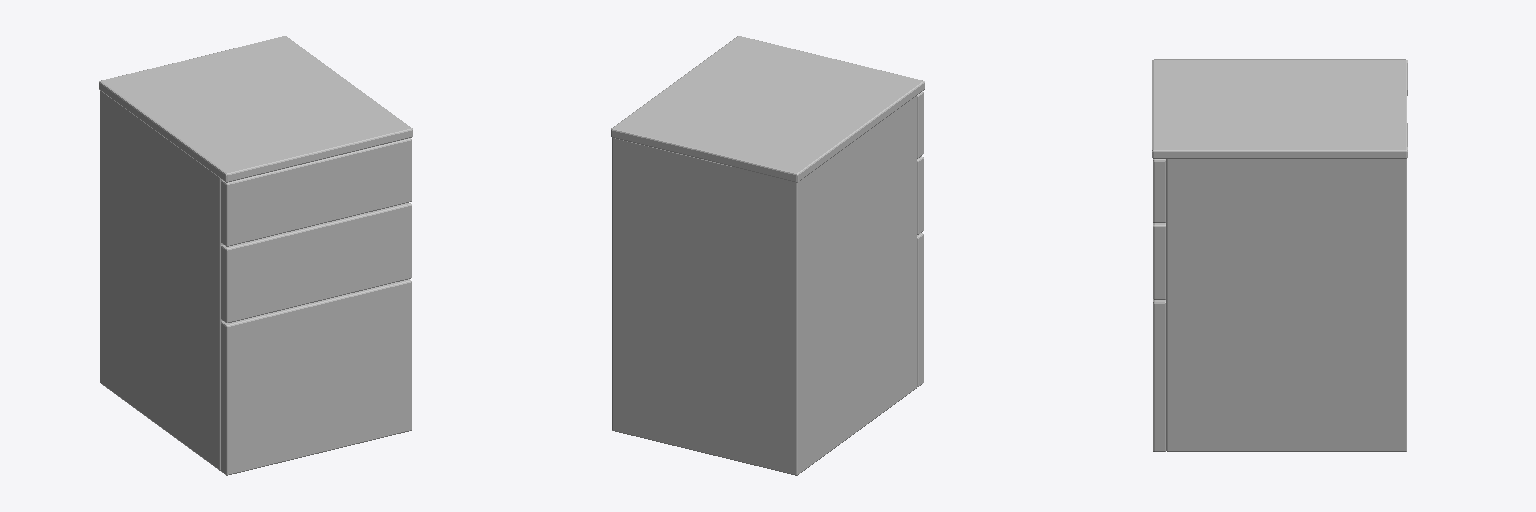
Rendered from Drawer_HP.obj.
3 renders of one model, left to right at view 1: azimuth 30°, elevation 25°; view 2: azimuth 150°, elevation 25°; view 3: azimuth 270°, elevation 25°, orthographic.
Parts seen in each view (by area): view 1: Cube.002, Cube, Cube.003; view 2: Cube, Cube.003, Cube.002; view 3: Cube, Cube.003, Cube.002.
Boxes of the visible parts, x1,y1,x2,y2 form: Cube.002: [221, 138, 411, 475]; Cube: [100, 91, 222, 470]; Cube.003: [99, 36, 412, 182]; Cube: [612, 96, 916, 475]; Cube.003: [611, 36, 924, 182]; Cube.002: [917, 91, 923, 386]; Cube: [1166, 159, 1406, 451]; Cube.003: [1152, 59, 1407, 158]; Cube.002: [1153, 159, 1165, 451].
Bounding box in the file's own units: 0.4072 × 0.6283 × 0.4816.